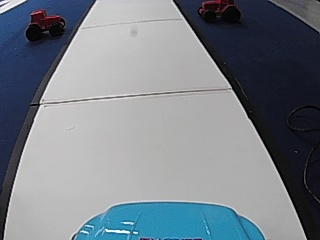tractor: (23, 6, 67, 41), (195, 0, 240, 24)
